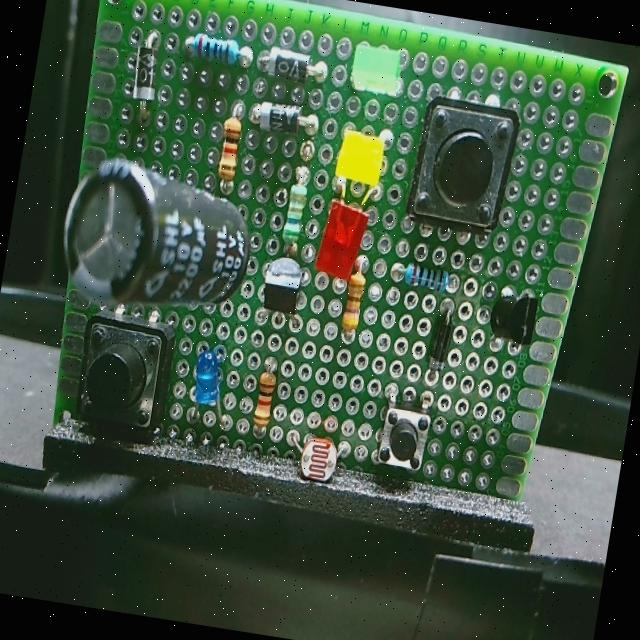Electrolytic capacitor: (52, 150, 266, 323)
cds: (292, 429, 351, 483)
diode: (126, 30, 173, 116), (244, 36, 324, 86), (424, 299, 466, 381), (252, 98, 322, 138)
led: (306, 185, 372, 290), (344, 33, 415, 106), (328, 124, 396, 196), (183, 344, 236, 424)
resistor: (244, 354, 282, 439), (280, 158, 316, 246), (212, 98, 246, 190), (185, 24, 250, 70), (399, 250, 456, 296), (336, 264, 368, 342)
switch: (405, 89, 520, 248), (68, 311, 178, 448), (365, 389, 442, 484)
transistor: (254, 252, 314, 326), (492, 289, 544, 354)
